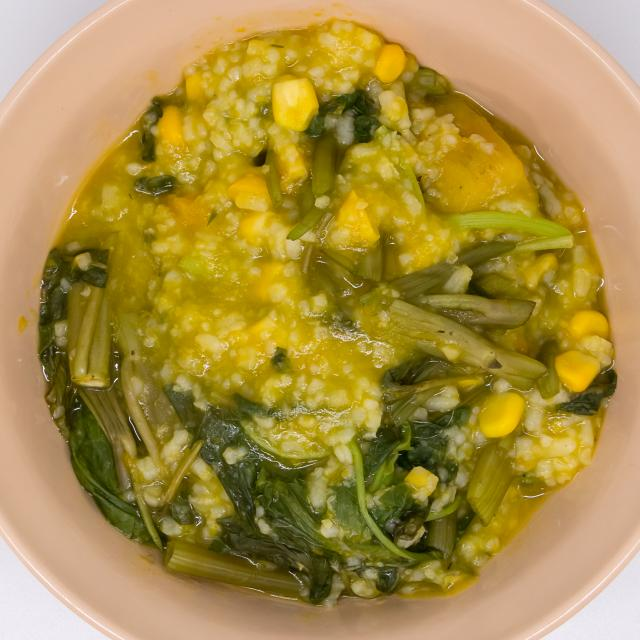Bubur-Manado: (28, 9, 626, 610)
